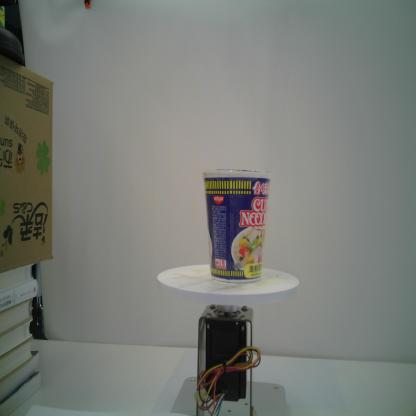Instant Noodles: (202, 168, 272, 284)
